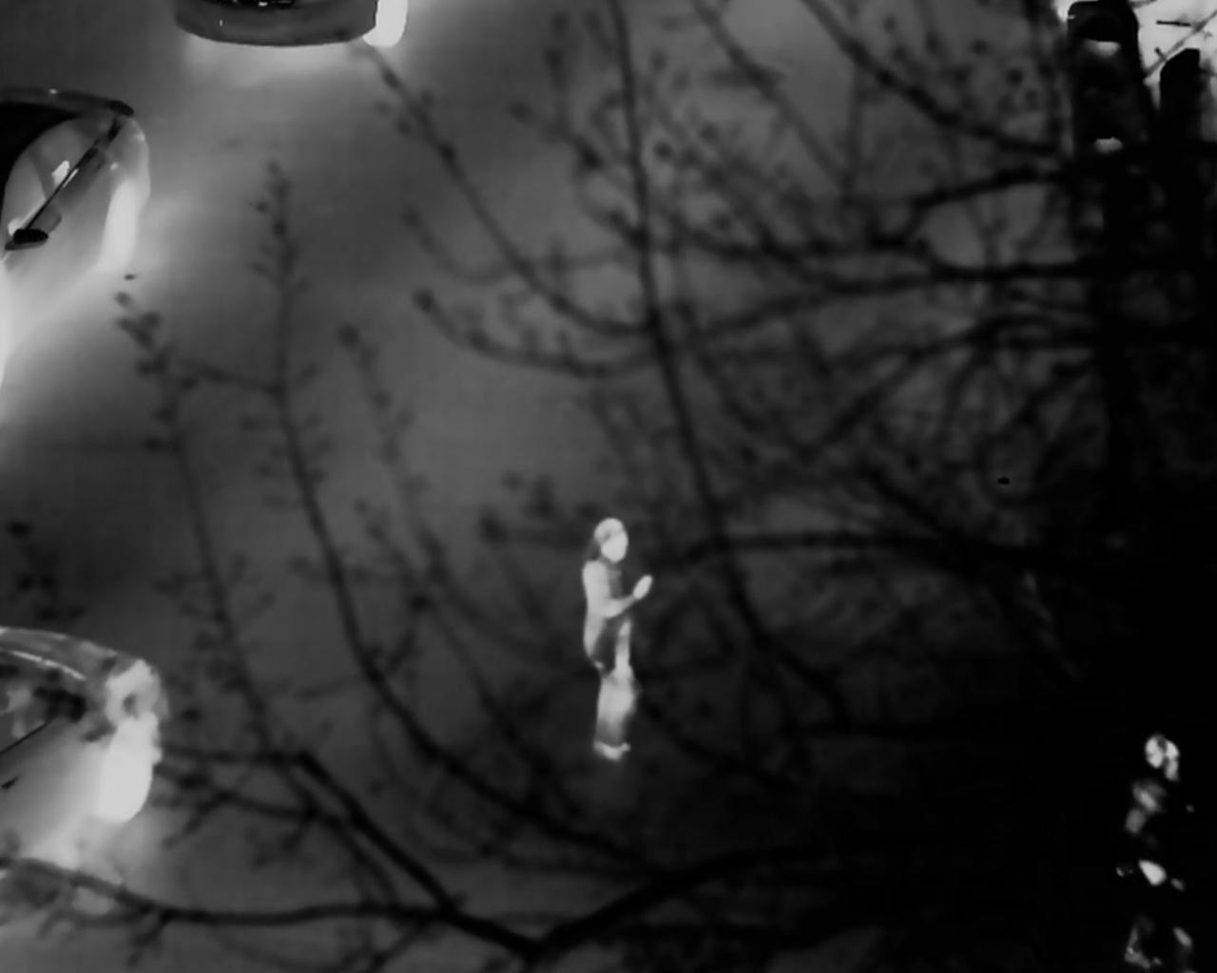person: (1103, 725, 1210, 957), (579, 522, 661, 773)
